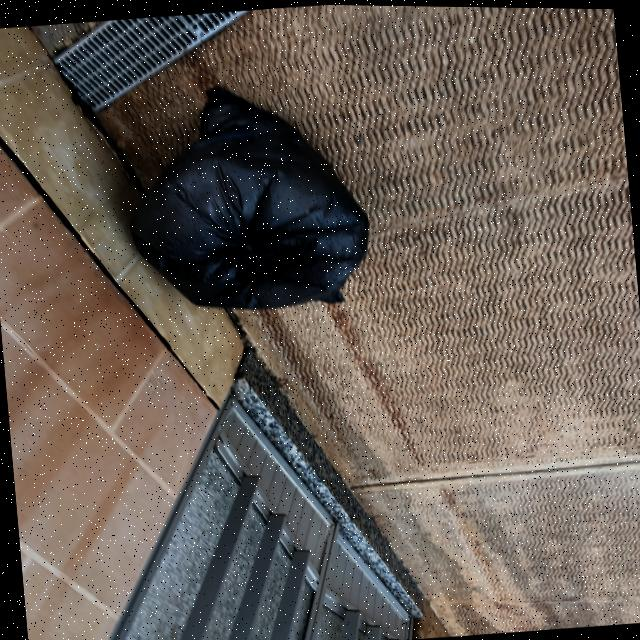Mixed Waste -Black Bag-: (115, 73, 374, 320)
